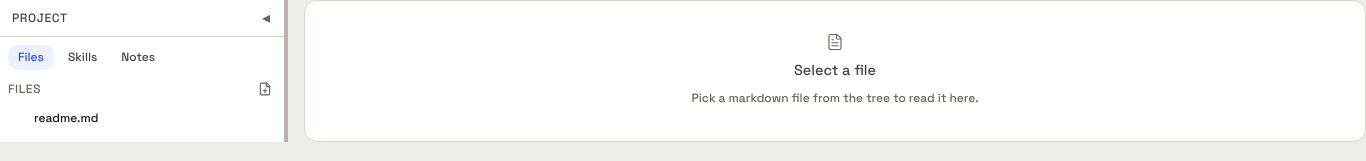
Scenario: <Station /> › loads and renders a clicked markdown file's content in the center pane
Click the button "readme.md" at (140, 118), box x1=34 y1=111 x2=247 y2=126
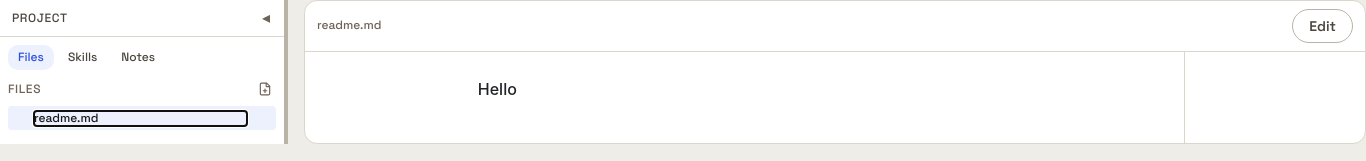
Now the text "Hello" is shown, box x1=478 y1=79 x2=517 y2=99
